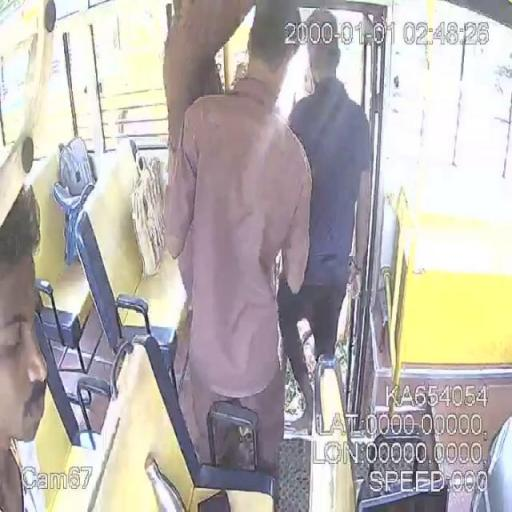persona: (162, 1, 314, 501), (276, 8, 374, 434), (0, 182, 50, 511)
